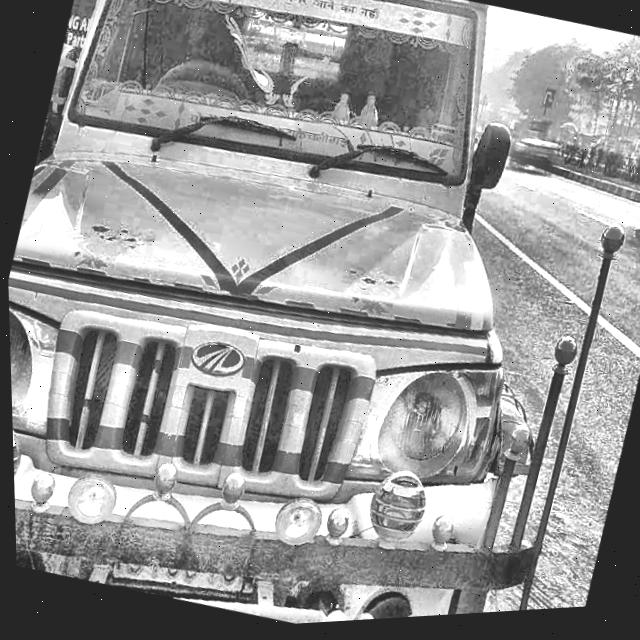light_vehicle: (0, 0, 638, 640)
